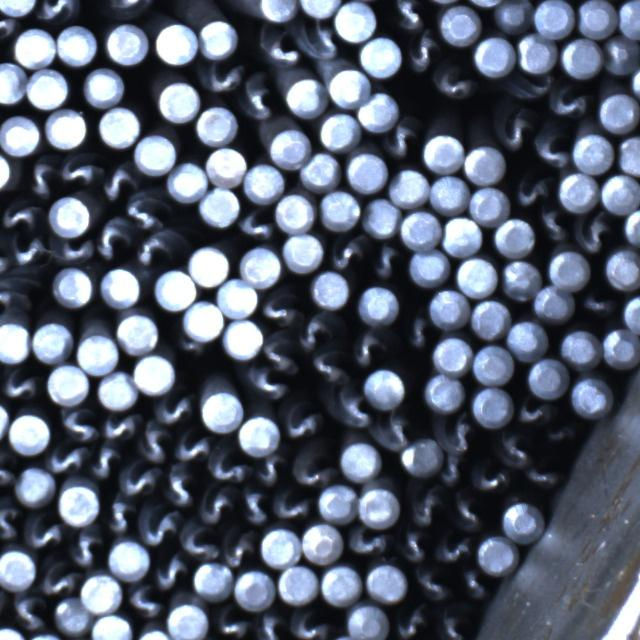tool: (58, 479, 101, 524), (8, 412, 51, 455), (200, 390, 243, 433), (155, 20, 198, 63), (76, 330, 120, 372), (106, 21, 150, 63), (345, 151, 388, 193), (234, 568, 276, 611), (47, 363, 90, 405), (45, 107, 88, 149), (321, 564, 363, 607), (82, 66, 125, 108), (157, 80, 200, 122), (116, 312, 159, 354), (438, 4, 482, 45), (472, 36, 514, 78), (303, 524, 345, 566), (98, 265, 140, 307), (320, 189, 362, 231), (502, 501, 544, 543), (48, 194, 91, 235), (359, 36, 402, 77), (135, 132, 178, 173), (333, 1, 376, 42), (108, 538, 151, 579), (26, 68, 68, 109), (154, 267, 196, 308), (559, 38, 601, 79), (276, 565, 318, 606), (573, 133, 614, 175), (442, 215, 483, 257), (205, 146, 246, 188), (455, 256, 497, 297), (57, 24, 99, 65), (358, 485, 400, 526), (549, 249, 591, 290), (507, 320, 549, 361), (52, 266, 94, 307), (287, 76, 328, 118), (572, 376, 613, 418), (526, 358, 568, 399), (339, 441, 381, 482), (559, 328, 601, 369), (365, 368, 407, 409), (498, 260, 540, 301), (389, 166, 432, 206), (240, 246, 283, 286), (267, 128, 310, 168), (223, 318, 264, 359), (599, 171, 640, 212), (599, 91, 640, 132), (359, 285, 400, 326), (556, 170, 598, 210), (182, 299, 224, 339), (14, 26, 56, 66), (80, 572, 122, 612), (188, 244, 230, 284), (0, 114, 40, 156), (422, 132, 464, 172), (465, 144, 507, 184), (260, 527, 302, 567), (132, 354, 174, 394), (472, 386, 514, 426), (217, 276, 259, 316), (98, 106, 140, 146), (198, 187, 240, 227), (358, 90, 400, 130), (166, 162, 208, 202), (96, 370, 138, 410), (195, 104, 237, 144), (366, 562, 408, 602), (282, 232, 323, 272), (515, 32, 556, 72), (401, 208, 442, 248), (238, 416, 279, 456), (330, 68, 371, 108), (32, 322, 72, 363), (320, 111, 361, 151), (474, 342, 514, 383), (477, 535, 518, 575), (300, 151, 341, 191), (430, 287, 470, 328), (401, 435, 442, 475), (165, 601, 207, 640), (423, 371, 465, 410), (198, 18, 238, 58), (275, 192, 315, 232), (318, 482, 358, 522), (245, 162, 286, 201), (493, 216, 534, 255), (472, 299, 511, 340), (535, 282, 576, 321), (52, 595, 91, 636), (408, 249, 450, 287), (346, 603, 389, 640), (0, 547, 37, 590), (309, 269, 349, 308), (363, 197, 402, 237), (193, 560, 233, 599), (15, 465, 55, 504), (602, 328, 640, 369), (576, 1, 616, 39), (470, 185, 510, 223), (433, 336, 473, 374), (532, 0, 573, 37), (604, 248, 640, 290), (432, 174, 470, 213), (493, 0, 532, 33), (0, 321, 30, 363), (0, 60, 26, 103), (92, 613, 133, 640), (618, 134, 640, 175), (618, 0, 640, 38), (258, 0, 297, 21), (622, 292, 640, 333), (299, 0, 343, 16), (623, 207, 640, 246), (1, 0, 38, 14), (135, 628, 175, 640), (0, 151, 11, 192), (630, 63, 640, 101), (0, 626, 27, 640), (0, 402, 9, 444), (466, 0, 506, 7)
tool_b: (326, 385, 374, 435), (238, 73, 280, 124), (257, 26, 304, 70), (293, 442, 337, 488), (280, 398, 323, 443), (92, 215, 133, 262), (241, 363, 288, 404), (262, 330, 302, 378), (406, 481, 447, 527), (348, 325, 392, 367), (139, 504, 181, 548), (123, 188, 167, 230), (432, 63, 477, 104), (382, 118, 422, 163), (66, 524, 106, 568), (133, 225, 178, 264), (296, 311, 338, 352), (178, 520, 219, 562), (310, 344, 352, 385), (55, 404, 98, 444), (496, 108, 535, 152), (20, 153, 58, 198), (574, 212, 614, 254), (9, 590, 51, 630), (101, 162, 141, 204), (196, 482, 235, 525), (0, 366, 41, 406), (600, 36, 639, 78), (207, 446, 250, 484), (1, 194, 44, 232), (159, 464, 196, 508), (118, 458, 158, 498), (122, 581, 163, 620), (303, 22, 342, 63), (535, 128, 573, 170), (24, 511, 64, 550), (259, 287, 298, 327), (405, 33, 442, 75), (410, 567, 452, 604), (154, 392, 198, 427), (152, 552, 191, 591), (326, 232, 366, 270), (37, 560, 77, 598), (58, 151, 98, 189), (435, 603, 476, 640), (345, 524, 388, 559), (536, 208, 573, 248), (137, 423, 173, 464), (272, 487, 314, 522), (199, 60, 242, 94), (495, 431, 533, 469), (394, 603, 433, 640), (237, 205, 276, 242), (9, 233, 48, 270), (223, 528, 259, 568), (549, 83, 589, 119), (434, 530, 476, 564), (86, 442, 123, 480), (437, 416, 474, 454), (374, 412, 412, 449), (171, 428, 210, 464), (383, 0, 428, 31), (511, 71, 556, 102), (451, 490, 485, 531), (288, 608, 331, 640), (512, 174, 550, 210), (102, 497, 137, 536), (44, 442, 84, 476), (237, 486, 270, 526), (52, 234, 94, 265), (254, 450, 290, 486), (100, 409, 138, 443), (580, 286, 619, 319), (456, 568, 492, 603), (401, 316, 434, 354), (523, 458, 562, 490), (371, 244, 403, 282), (396, 529, 430, 564), (213, 607, 249, 640), (472, 465, 511, 495), (35, 0, 81, 24), (514, 398, 552, 427), (0, 498, 21, 546), (436, 456, 466, 489), (254, 611, 288, 640), (542, 420, 576, 447), (98, 0, 153, 16), (0, 451, 16, 497), (0, 8, 17, 42)
